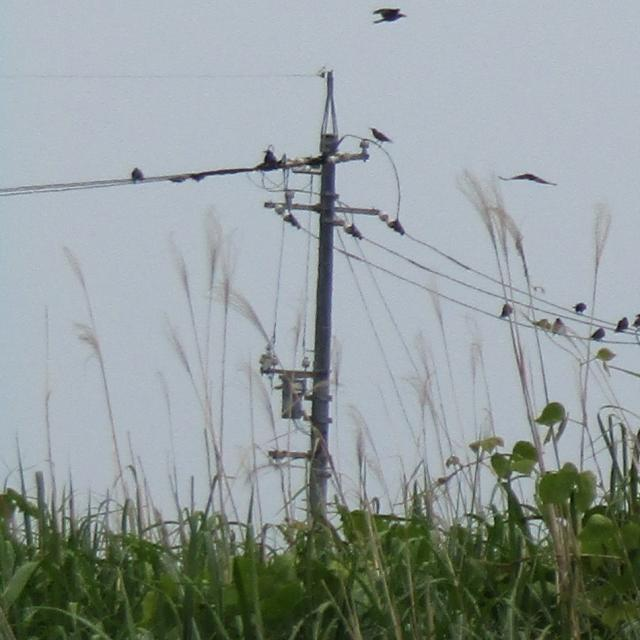pole: (250, 51, 408, 548)
